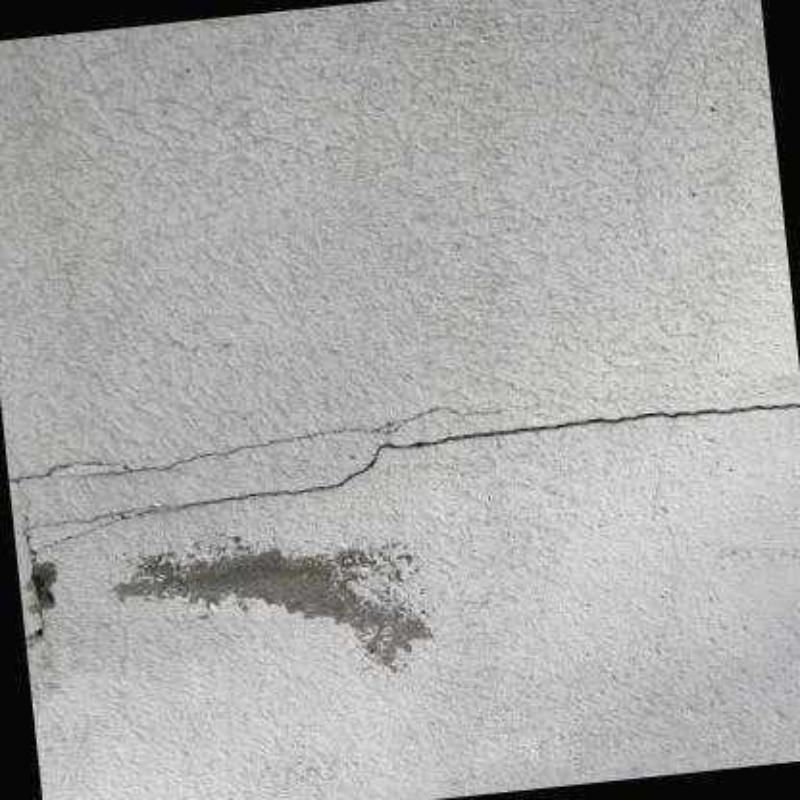crack: (158, 397, 800, 514), (8, 408, 510, 481), (23, 494, 160, 562), (25, 610, 46, 650)
